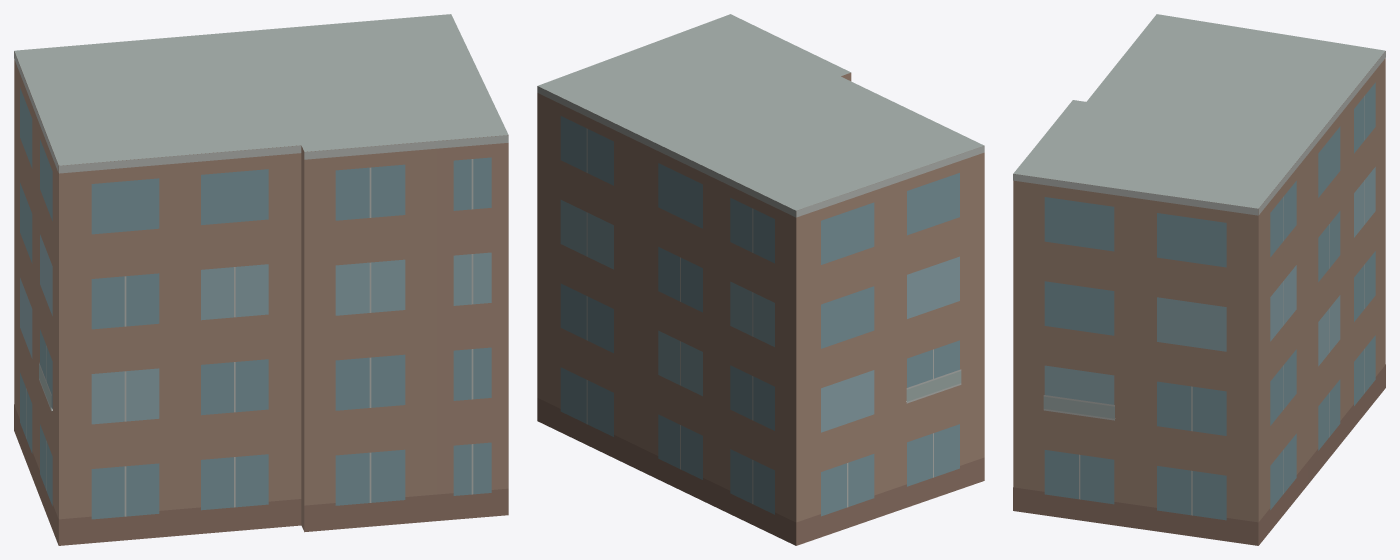
The model's file is survey-upis-32801830.glb.
The picture shows the model from 3 angles, left to right: view 1: azimuth 30°, elevation 25°; view 2: azimuth 150°, elevation 25°; view 3: azimuth 270°, elevation 25°; orthographic projection. The views are drawn at different scales.
Visible parts, largest first — view 1: survey-upis-32801830.tmp; view 2: survey-upis-32801830.tmp; view 3: survey-upis-32801830.tmp.
Boxes of the visible parts, bbox=[...] form: survey-upis-32801830.tmp: bbox=[14, 14, 508, 545]; survey-upis-32801830.tmp: bbox=[537, 14, 984, 545]; survey-upis-32801830.tmp: bbox=[1013, 14, 1385, 545].
Size of the model in its own units: 14.76 by 11.91 by 11.94.
